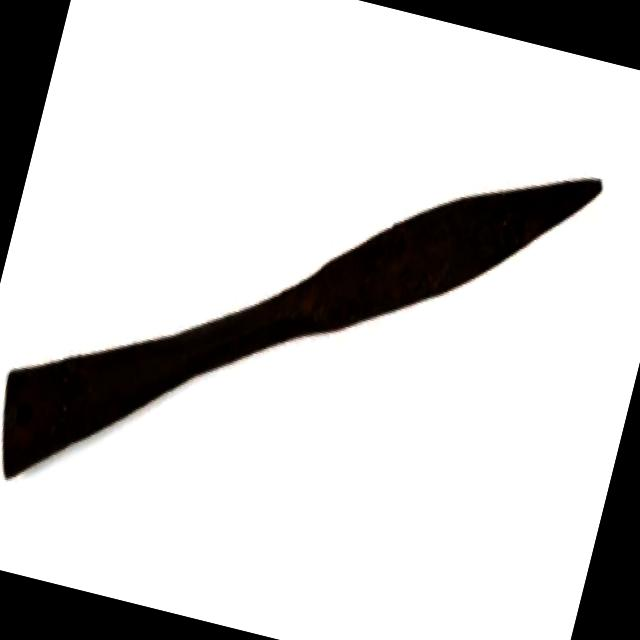spear: (0, 4, 632, 622)
